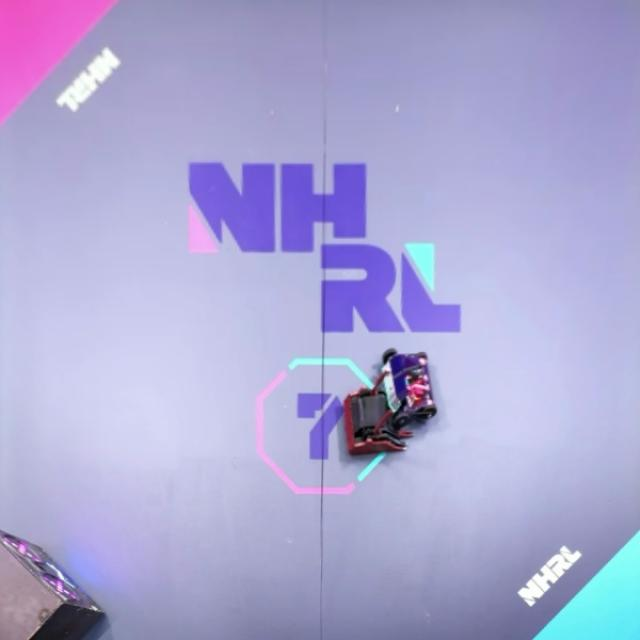housebot: (0, 530, 106, 640)
robot: (345, 371, 414, 456), (381, 348, 435, 430)
